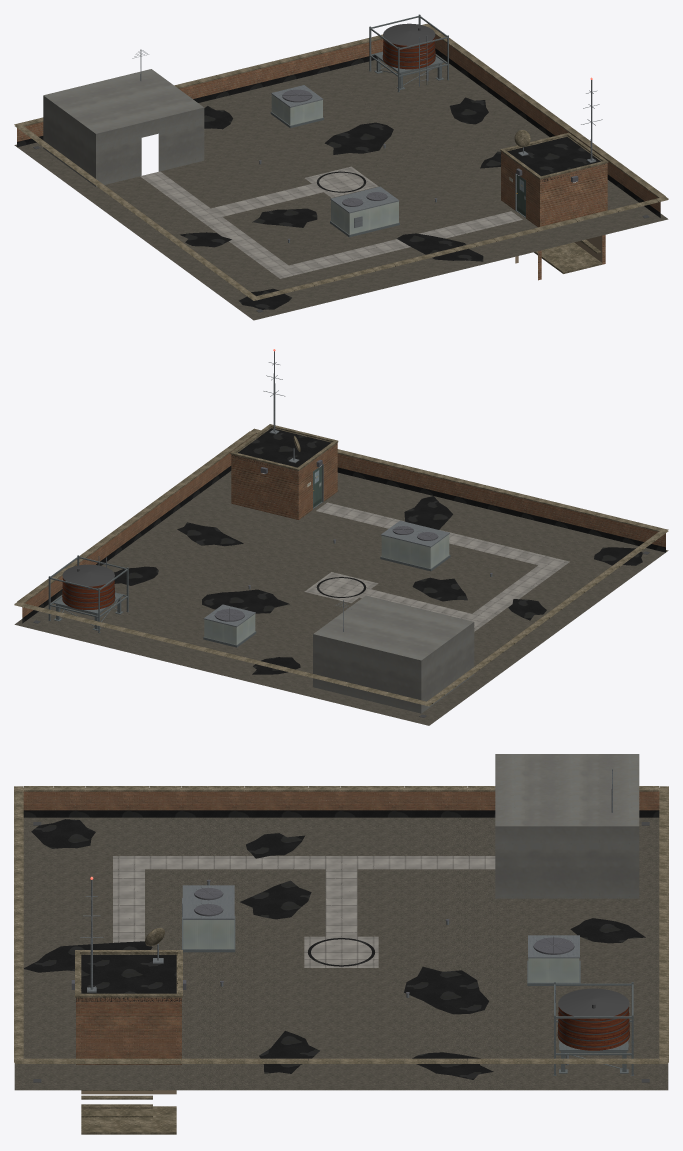
Rendered from roof.glb.
3 renders of one model, top to bottom at view 1: azimuth 30°, elevation 25°; view 2: azimuth 150°, elevation 25°; view 3: azimuth 270°, elevation 25°, orthographic. The views are drawn at different scales.
Visible parts, largest first — view 1: Roof_Gravel, SH_Outside, Roof_Tar, Brick, Coping, Roof_Pavers, HVAC_Sheet, Steel_Paint, Steel_Galv, Iron_Black, Stair_Concrete, Tank_Wood (+1 smaller); view 2: Roof_Gravel, SH_Outside, Brick, Roof_Tar, Coping, Roof_Pavers, HVAC_Sheet, Steel_Paint, Steel_Galv, Iron_Black, Tank_Wood, Metal_Dark; view 3: Roof_Gravel, SH_Outside, Roof_Tar, Brick, Coping, Roof_Pavers, Stair_Concrete, HVAC_Sheet, Steel_Galv, Iron_Black, Steel_Paint, Tank_Wood (+1 smaller).
Part boxes in pixels (left/top/right/bottom): Roof_Gravel: left=14, top=54, right=668, bottom=320; SH_Outside: left=43, top=69, right=204, bottom=186; Roof_Tar: left=17, top=48, right=660, bottom=309; Brick: left=17, top=35, right=660, bottom=280; Coping: left=14, top=23, right=668, bottom=300; Roof_Pavers: left=140, top=166, right=522, bottom=278; HVAC_Sheet: left=271, top=94, right=398, bottom=234; Steel_Paint: left=270, top=14, right=525, bottom=237; Steel_Galv: left=132, top=36, right=602, bottom=242; Iron_Black: left=33, top=23, right=649, bottom=312; Stair_Concrete: left=534, top=239, right=602, bottom=273; Tank_Wood: left=382, top=37, right=435, bottom=69; Roof_Gravel: left=14, top=471, right=668, bottom=725; SH_Outside: left=313, top=595, right=474, bottom=713; Brick: left=22, top=433, right=665, bottom=617; Roof_Tar: left=22, top=428, right=665, bottom=674; Coping: left=14, top=424, right=668, bottom=706; Roof_Pavers: left=304, top=502, right=569, bottom=631; HVAC_Sheet: left=204, top=534, right=449, bottom=644; Steel_Paint: left=48, top=464, right=450, bottom=647; Steel_Galv: left=98, top=351, right=492, bottom=631; Iron_Black: left=33, top=551, right=649, bottom=717; Tank_Wood: left=62, top=578, right=115, bottom=609; Metal_Dark: left=214, top=459, right=492, bottom=621; Roof_Gravel: left=14, top=817, right=668, bottom=1090; SH_Outside: left=495, top=754, right=639, bottom=898; Roof_Tar: left=23, top=810, right=659, bottom=1079; Brick: left=23, top=791, right=659, bottom=1064; Coping: left=14, top=786, right=668, bottom=1063; Roof_Pavers: left=113, top=856, right=495, bottom=967; Stair_Concrete: left=81, top=1090, right=176, bottom=1134; HVAC_Sheet: left=183, top=920, right=579, bottom=982; Steel_Galv: left=80, top=769, right=612, bottom=1065; Iron_Black: left=33, top=822, right=649, bottom=1082; Steel_Paint: left=182, top=916, right=633, bottom=1075; Tank_Wood: left=557, top=1007, right=629, bottom=1050.
Size of the model in its own units: 24.66 by 10.52 by 24.66.
Materials: 18 (14 with a texture image).
